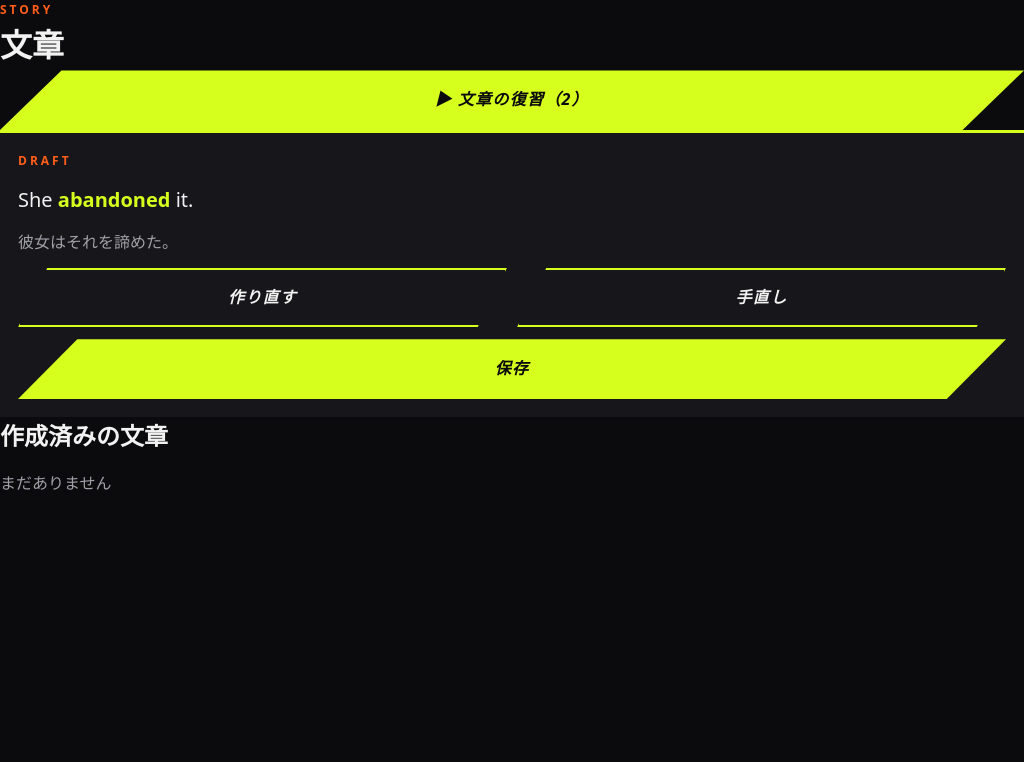
Scenario: Sentences › 手直しで説明文とプレビューが出る
The width and height of the screenshot is (1024, 762).
Click the button "手直し".
click(762, 298)  # box x1=517 y1=268 x2=1006 y2=327
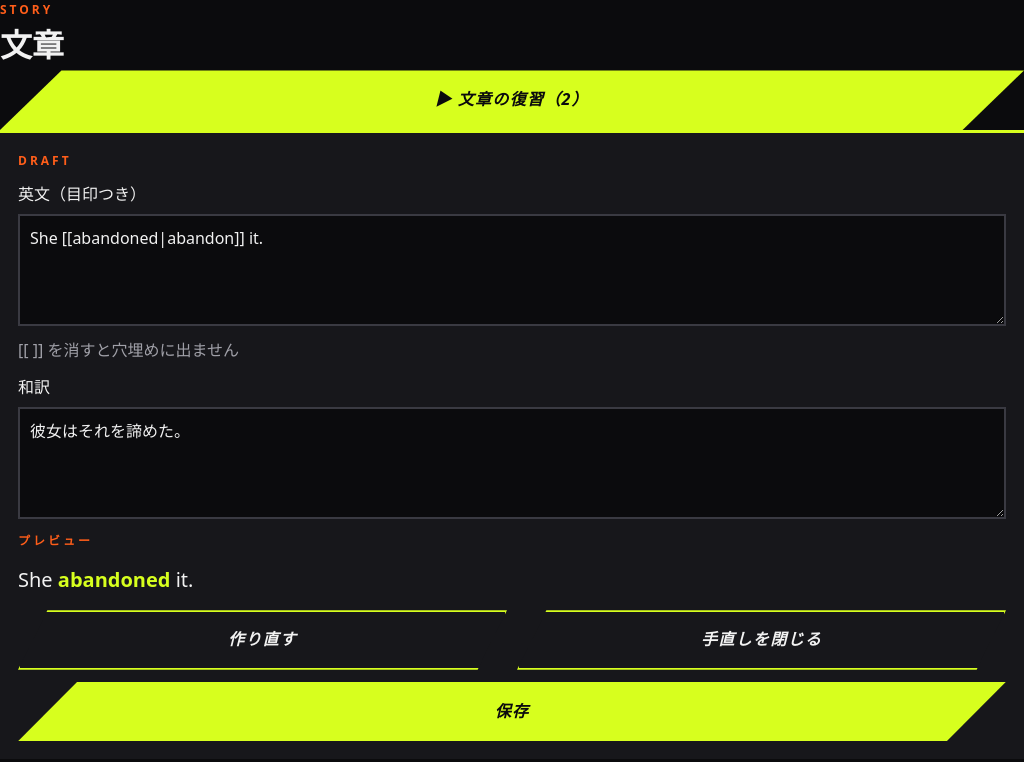
Result: the text "[ [ ]] を消すと穴埋めに出ません" is shown at x1=18 y1=339 x2=239 y2=361
Replace the text in the text box labelled "英文（目印つき）" with "Plain [ [fast|fast]]." at {"x": 512, "y": 270}, box x1=18 y1=214 x2=1006 y2=326
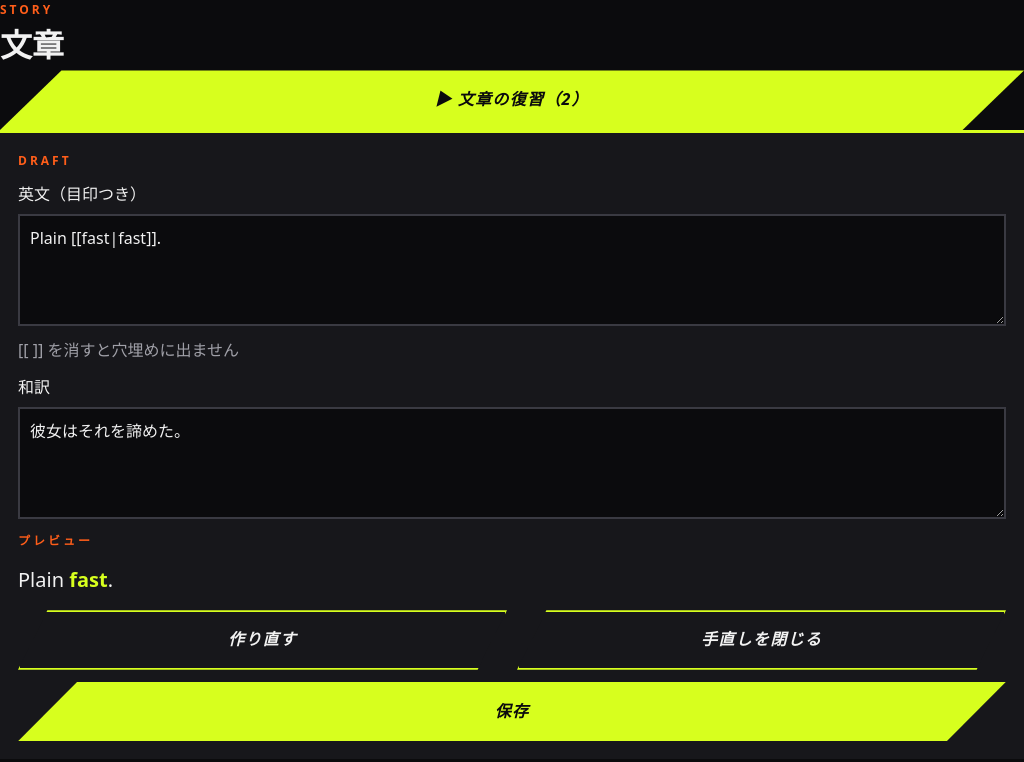
Result: the text "fast" is shown at x1=69 y1=566 x2=108 y2=593
